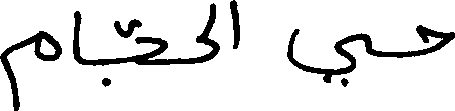ا: (228, 0, 240, 49), (74, 8, 80, 64)
ج: (99, 34, 166, 88)
ح: (415, 22, 453, 55), (185, 34, 221, 63)
ل: (196, 0, 219, 43)
م: (0, 28, 61, 109)
ي: (285, 26, 367, 87)
